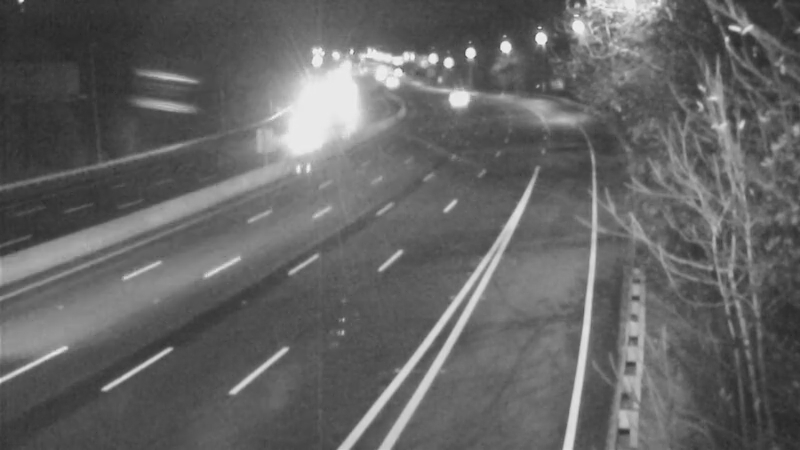vehicle: (363, 54, 413, 104), (428, 74, 478, 124)
